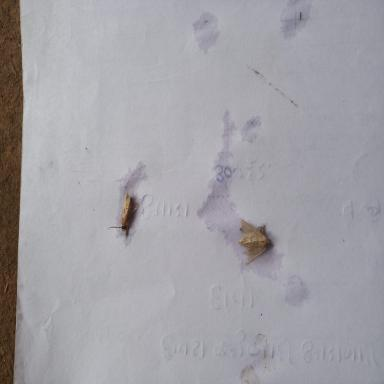pbw: (236, 218, 274, 264), (108, 191, 139, 230)
